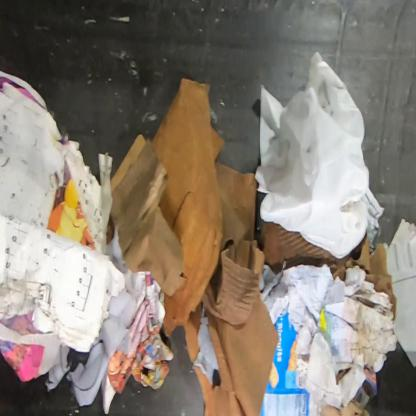cardboard: (152, 77, 226, 338), (258, 222, 396, 320), (110, 132, 188, 298), (182, 290, 280, 415), (201, 161, 265, 326), (391, 276, 415, 369), (320, 399, 372, 416)
rigid_plastic: (382, 216, 415, 285)
soft_plastic: (254, 51, 385, 259)
